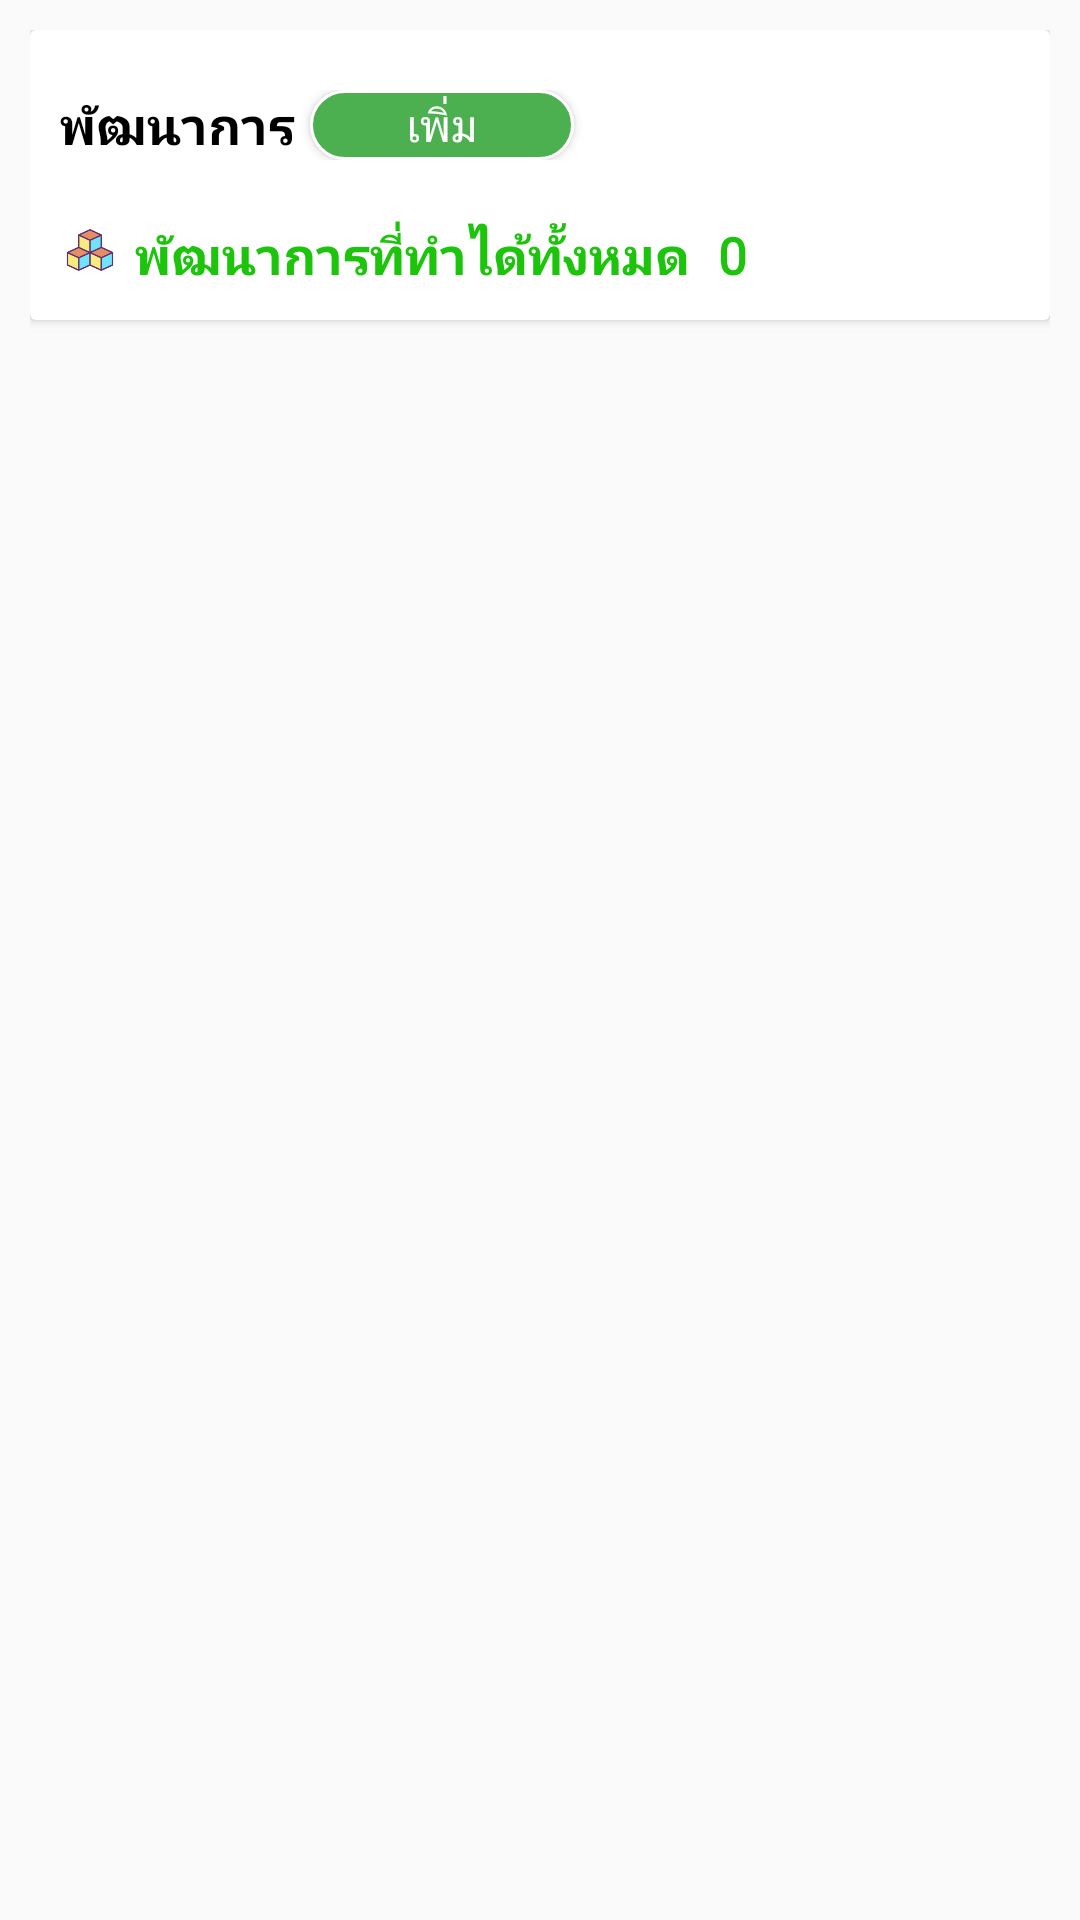

Icon click points for this 1080 x 1920 phone screenshot, format [x,y]:
dev: [90,250]
